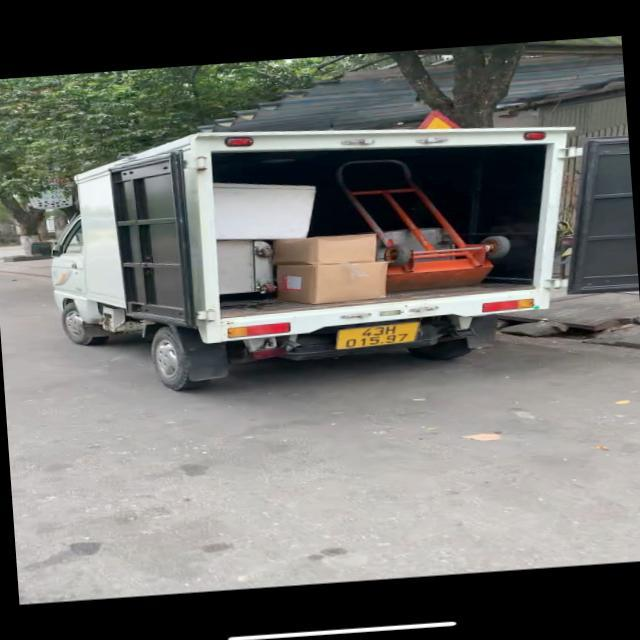car: (51, 84, 552, 394)
plate: (332, 317, 426, 357)
